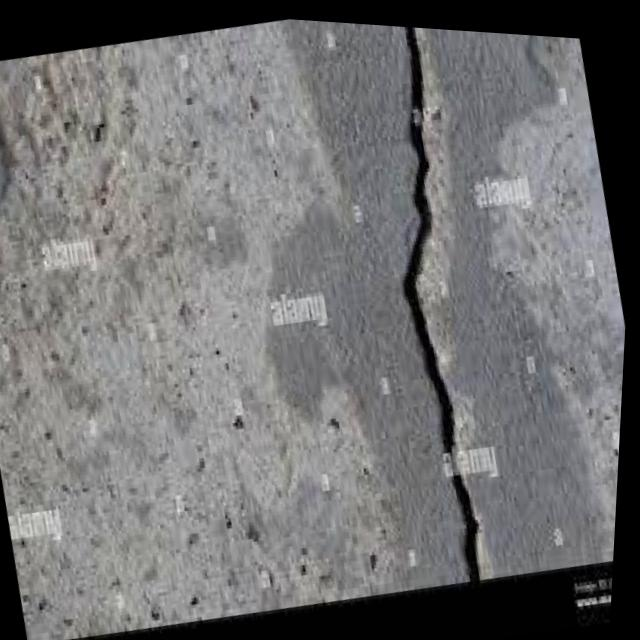Crack: (335, 19, 539, 571)
